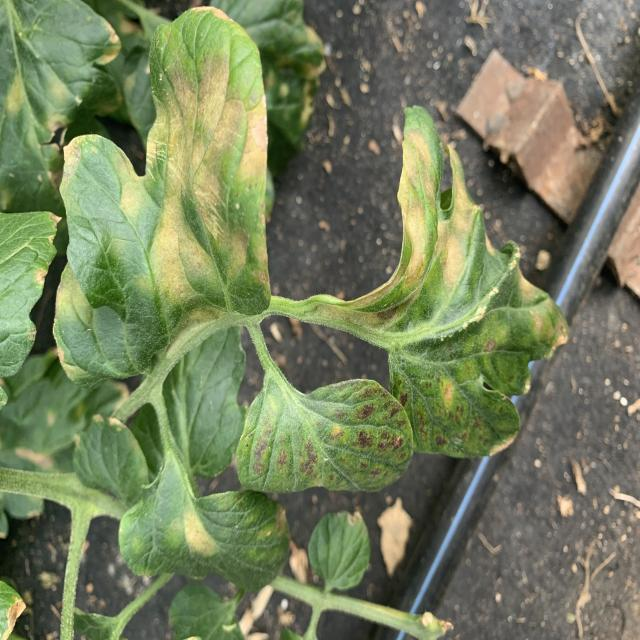Leaf Mold: (327, 104, 569, 459), (55, 8, 271, 392), (1, 1, 121, 217), (119, 468, 291, 595), (235, 380, 413, 496)
